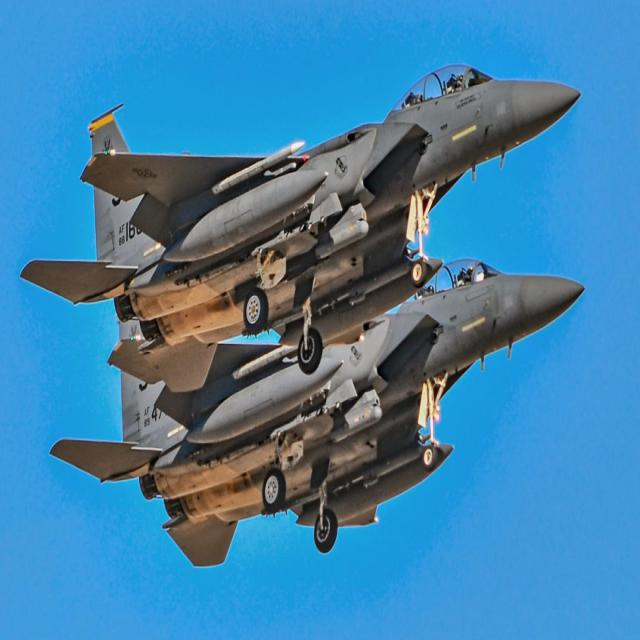MIL_Plane: (19, 63, 581, 392), (49, 259, 585, 567)
